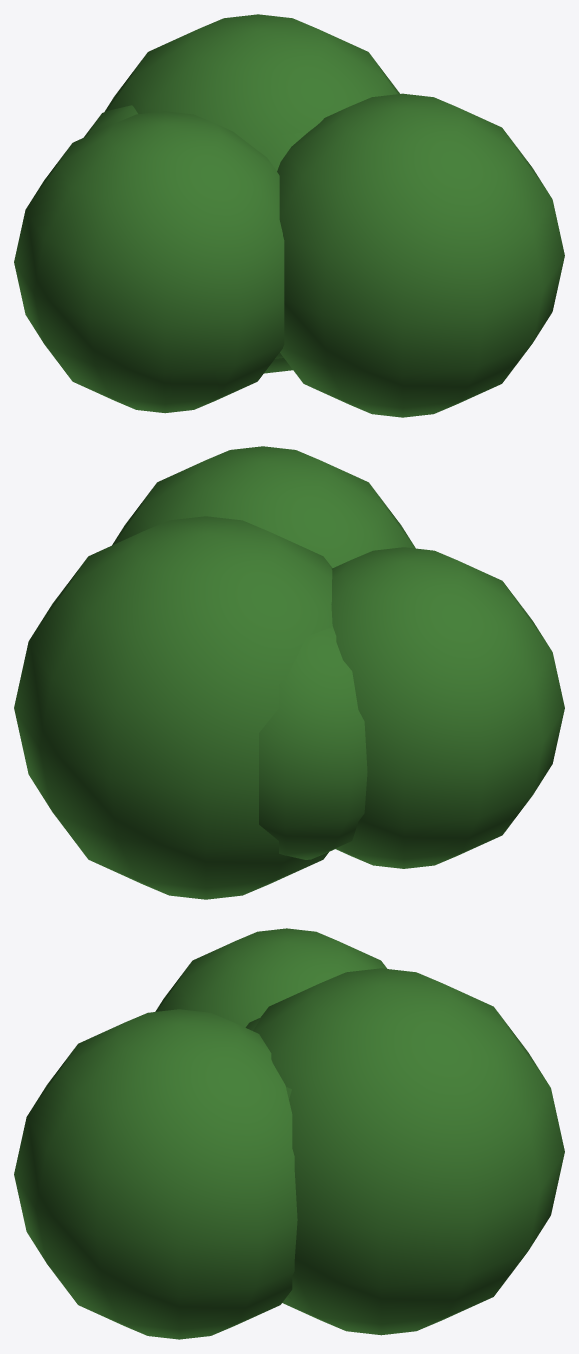
Rendered from shrub.glb.
3 views of the same model, one above another, from view 1: azimuth 30°, elevation 25°; view 2: azimuth 150°, elevation 25°; view 3: azimuth 270°, elevation 25° (orthographic). The views are drawn at different scales.
Parts seen in each view (by area): view 1: shrub; view 2: shrub; view 3: shrub.
Part boxes in pixels (x1,y1,x2,y2): shrub: [14, 14, 564, 417]; shrub: [14, 446, 564, 899]; shrub: [14, 928, 564, 1339].
Bounding box in the file's own units: 1.29 × 0.8827 × 1.32.
